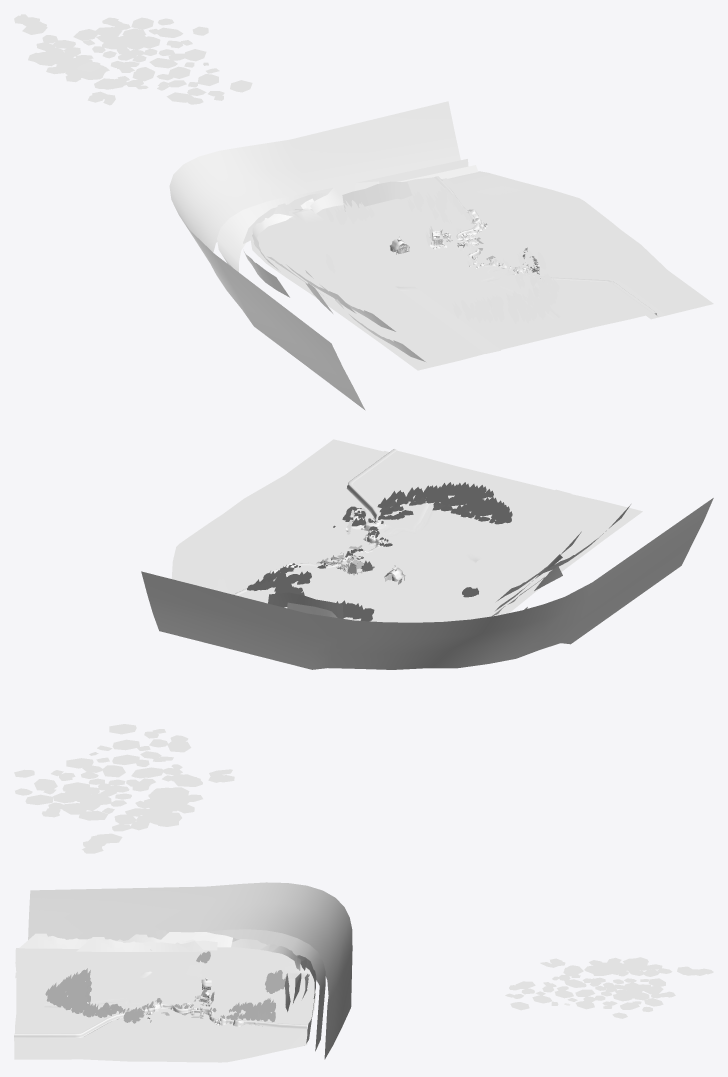
File: Farm_Fishin_Environment_FVCE.glb
3 renders of one model, top to bottom at view 1: azimuth 30°, elevation 25°; view 2: azimuth 150°, elevation 25°; view 3: azimuth 270°, elevation 25°, orthographic. The views are drawn at different scales.
Visible parts, largest first — view 1: SkyBackground, Groundplane, CoveFlow_01, GroundDecals, Road_01, SkyBackground02, Shape001, PineTree_Foreground002, Coast, PineTree_Foreground001, CreekShore005, PineTree_Foreground003 (+1 smaller); view 2: SkyBackground, Groundplane, CoveFlow_01, GroundDecals, Road_01, Shape001, PineTree_Foreground002, PineTree_Foreground001, SkyBackground02, Coast, PineTree_Foreground003, CreekShore005; view 3: SkyBackground, Groundplane, CoveFlow_01, GroundDecals, Road_01, Coast, Shape001, PineTree_Foreground001, PineTree_Foreground002, PineTree_Foreground003, CreekShore005, PineTreeBackground_002 (+1 smaller).
Boxes of the visible parts, x1,y1,x2,y2 form: SkyBackground: (169, 101, 478, 410); Groundplane: (250, 177, 652, 370); CoveFlow_01: (448, 171, 713, 318); GroundDecals: (14, 14, 252, 105); Road_01: (291, 208, 500, 353); SkyBackground02: (300, 181, 412, 213); Shape001: (441, 178, 665, 316); PineTree_Foreground002: (452, 285, 538, 322); Coast: (434, 176, 657, 315); PineTree_Foreground001: (507, 277, 559, 323); CreekShore005: (336, 216, 483, 302); PineTree_Foreground003: (407, 186, 457, 213); SkyBackground: (141, 498, 713, 669); Groundplane: (238, 450, 642, 622); CoveFlow_01: (171, 439, 382, 593); GroundDecals: (14, 724, 234, 853); Road_01: (374, 489, 571, 622); Shape001: (228, 451, 388, 594); PineTree_Foreground002: (409, 493, 512, 524); PineTree_Foreground001: (390, 482, 493, 504); SkyBackground02: (268, 592, 343, 618); Coast: (233, 449, 397, 595); PineTree_Foreground003: (247, 573, 304, 595); CreekShore005: (335, 541, 518, 617); SkyBackground: (19, 882, 352, 1059); Groundplane: (15, 947, 315, 1033); CoveFlow_01: (14, 1012, 306, 1062); GroundDecals: (505, 957, 713, 1018); Road_01: (15, 962, 310, 979); Coast: (14, 1002, 307, 1038); Shape001: (14, 1008, 306, 1041); PineTree_Foreground001: (45, 982, 98, 1017); PineTree_Foreground002: (58, 968, 92, 1006); PineTree_Foreground003: (244, 998, 275, 1022); CreekShore005: (135, 961, 268, 1005); PineTreeBackground_002: (265, 970, 285, 993).
Bounding box in the file's own units: 757 × 174 × 1602.
28 materials, 17 textured.
